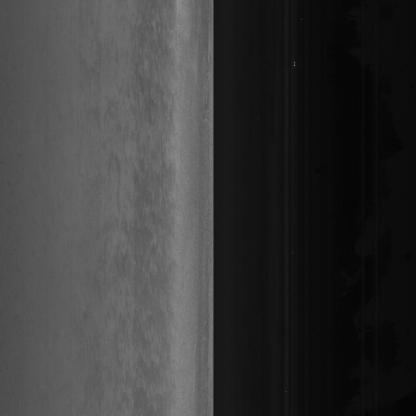silk_spot: (122, 96, 181, 304)
